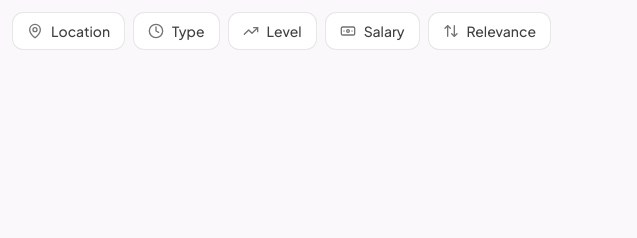
Test: ToolbarFilters Component › Relevance Dropdown (media_1790280905744.png) › highlights active sort option and applies sort when option is clicked
Click the button "Relevance".
click(489, 31)  # box [428,12,551,50]
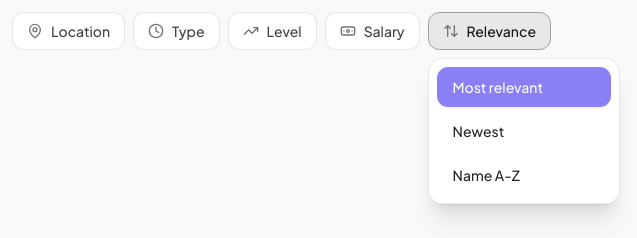
Click the menu item "Newest".
click(524, 131)  # box [437,111,611,151]
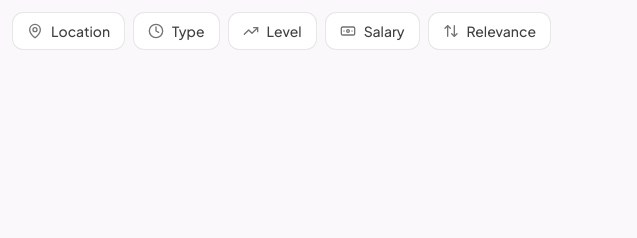
Expected: the menu is gone
